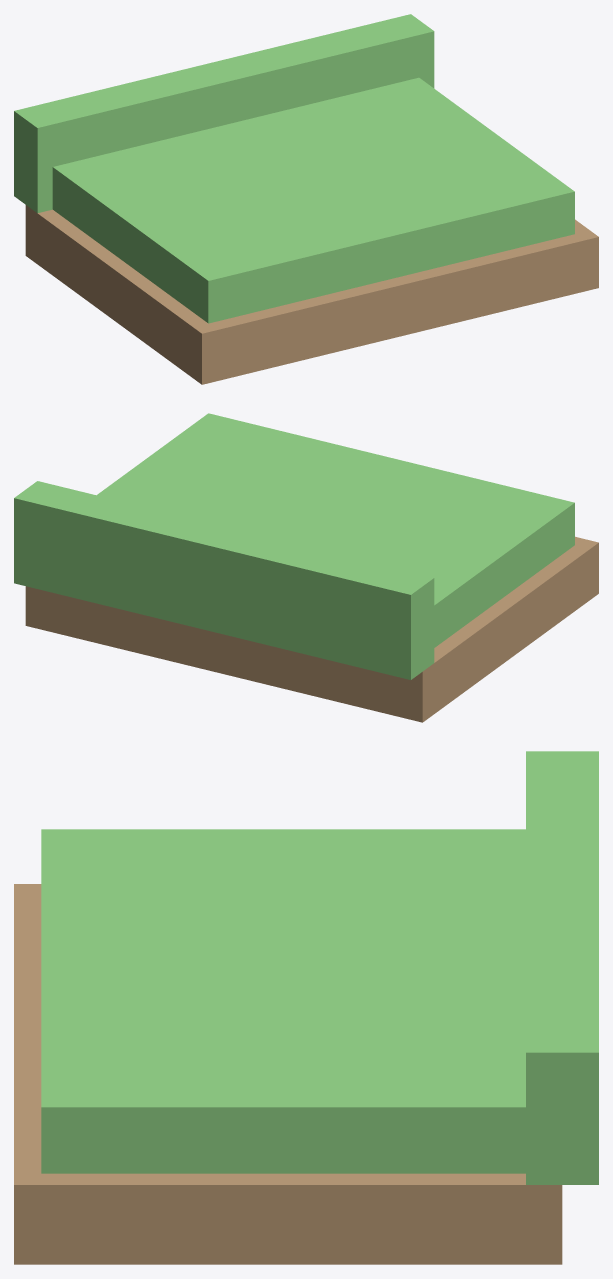
The model's file is Prop_Pet_AMF_Bed_V10.glb.
3 views of the same model, one above another, from view 1: azimuth 30°, elevation 25°; view 2: azimuth 150°, elevation 25°; view 3: azimuth 270°, elevation 25° (orthographic). The views are drawn at different scales.
Visible parts, largest first — view 1: Prop_Pet_AMF_Bed_V10; view 2: Prop_Pet_AMF_Bed_V10; view 3: Prop_Pet_AMF_Bed_V10.
Part boxes in pixels (x1,y1,x2,y2): Prop_Pet_AMF_Bed_V10: [14, 14, 598, 384]; Prop_Pet_AMF_Bed_V10: [14, 413, 598, 722]; Prop_Pet_AMF_Bed_V10: [14, 751, 598, 1264].
Size of the model in its own units: 0.975 by 0.32 by 0.8.
